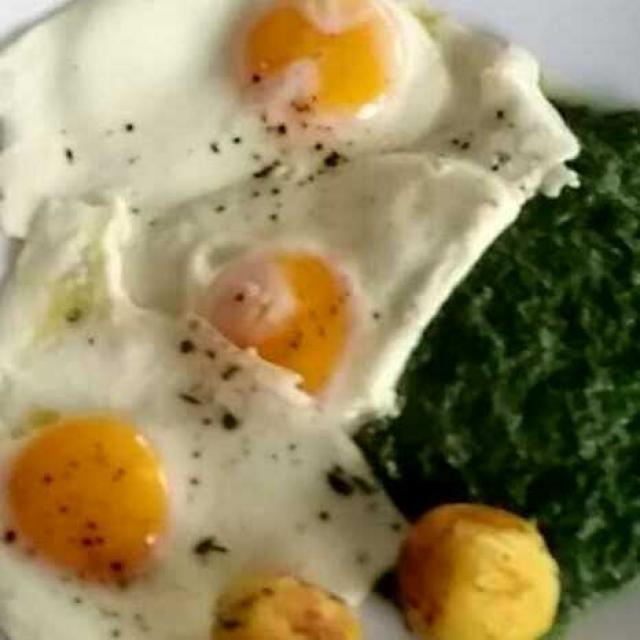egg: (9, 6, 606, 587)
potatoes: (229, 488, 571, 637)
spinach: (422, 113, 639, 528)
